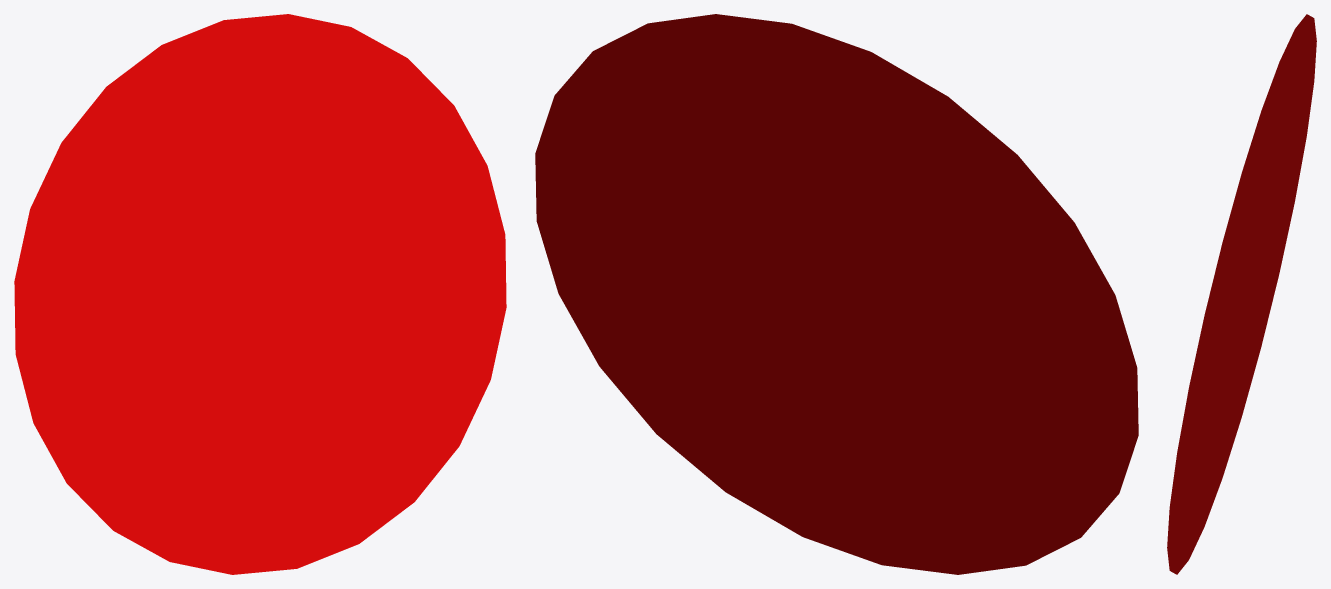
The model's file is original-118.obj.
The picture shows the model from 3 angles, left to right: view 1: azimuth 30°, elevation 25°; view 2: azimuth 150°, elevation 25°; view 3: azimuth 270°, elevation 25°; orthographic projection. The views are drawn at different scales.
Parts seen in each view (by area): view 1: Group17/mesh46/mesh46-geometry/material_1/component_0#mesh46-geo; view 2: Group17/mesh46/mesh46-geometry/material_1/component_0#mesh46-geo; view 3: Group17/mesh46/mesh46-geometry/material_1/component_0#mesh46-geo.
Part boxes in pixels (<box>): Group17/mesh46/mesh46-geometry/material_1/component_0#mesh46-geo: <box>14,14,506,574</box>; Group17/mesh46/mesh46-geometry/material_1/component_0#mesh46-geo: <box>535,14,1138,574</box>; Group17/mesh46/mesh46-geometry/material_1/component_0#mesh46-geo: <box>1167,14,1316,574</box>.
Bounding box in the file's own units: 0.0401 × 0.0387 × 0.0104.
